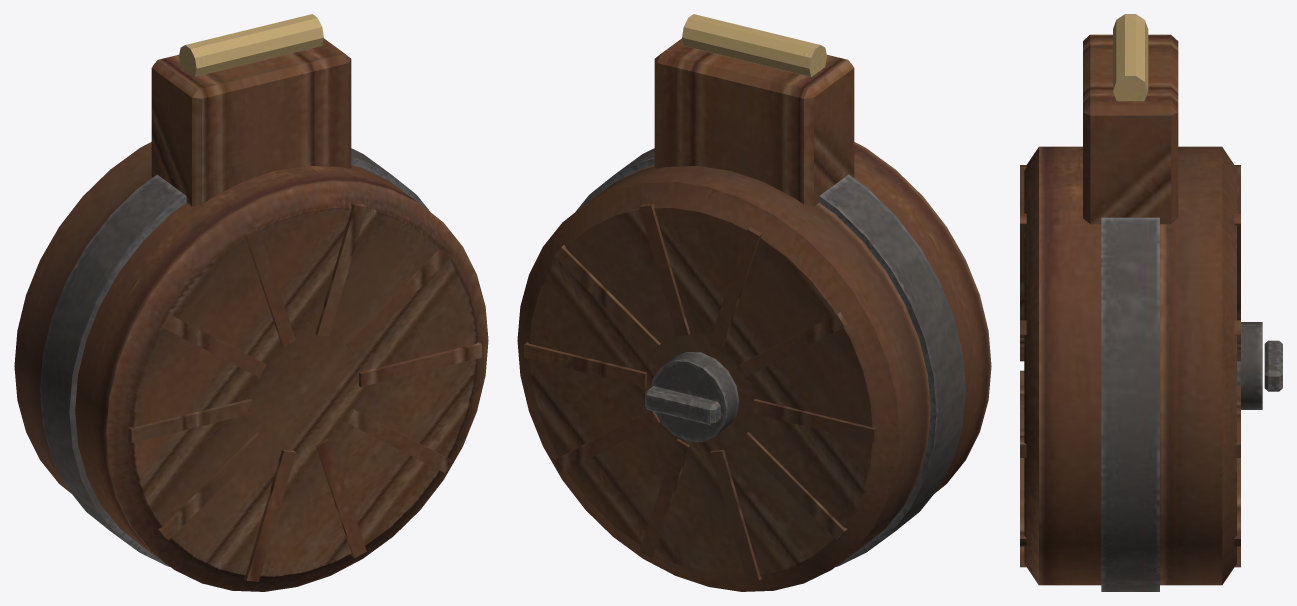
File: fat_drum.glb
3 views of the same model, side by side, from view 1: azimuth 30°, elevation 25°; view 2: azimuth 150°, elevation 25°; view 3: azimuth 270°, elevation 25° (orthographic).
Visible parts, largest first — view 1: fat_drum; view 2: fat_drum; view 3: fat_drum.
Part boxes in pixels (x1,y1,x2,y2): fat_drum: (14, 14, 488, 591); fat_drum: (517, 14, 991, 591); fat_drum: (1020, 14, 1282, 591).
Size of the model in its own units: 0.1236 by 0.1584 by 0.0716.
1 material, 1 textured.
